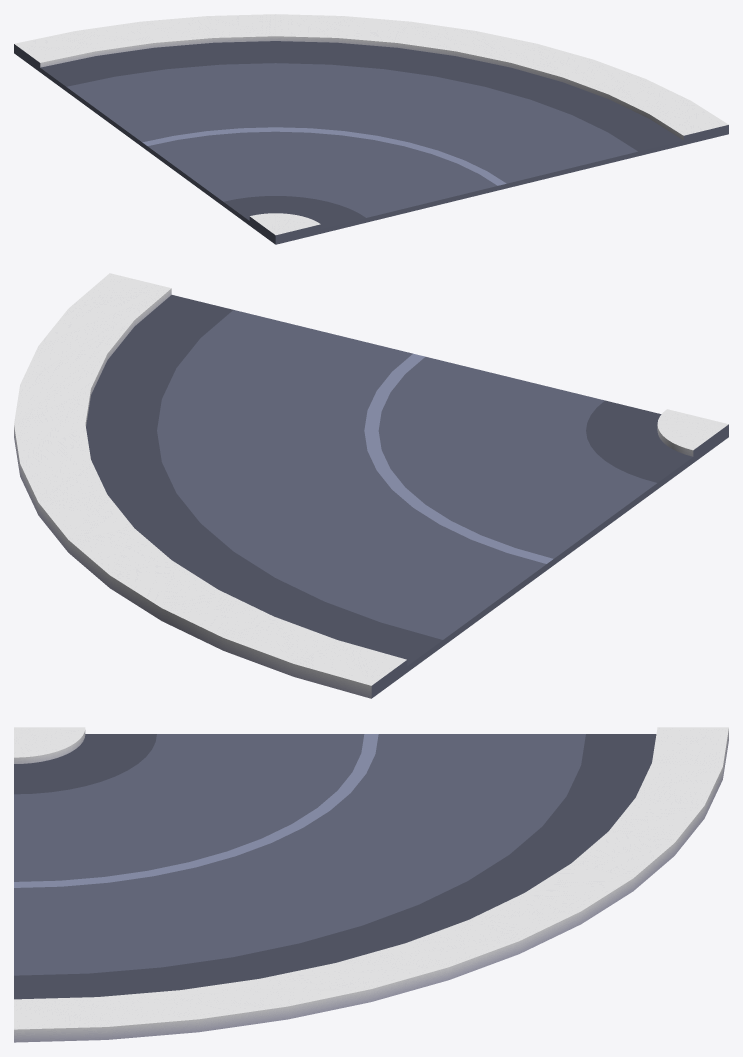
The model's file is road-bend.glb.
3 renders of one model, top to bottom at view 1: azimuth 30°, elevation 25°; view 2: azimuth 150°, elevation 25°; view 3: azimuth 270°, elevation 25°, orthographic. The views are drawn at different scales.
Parts seen in each view (by area): view 1: road-bend; view 2: road-bend; view 3: road-bend.
Part boxes in pixels (left/top/right/bottom): road-bend: left=14, top=14, right=728, bottom=244; road-bend: left=14, top=273, right=728, bottom=698; road-bend: left=14, top=727, right=728, bottom=1042.
Bounding box in the file's own units: 1 × 0.02 × 1.
1 material, 1 textured.
